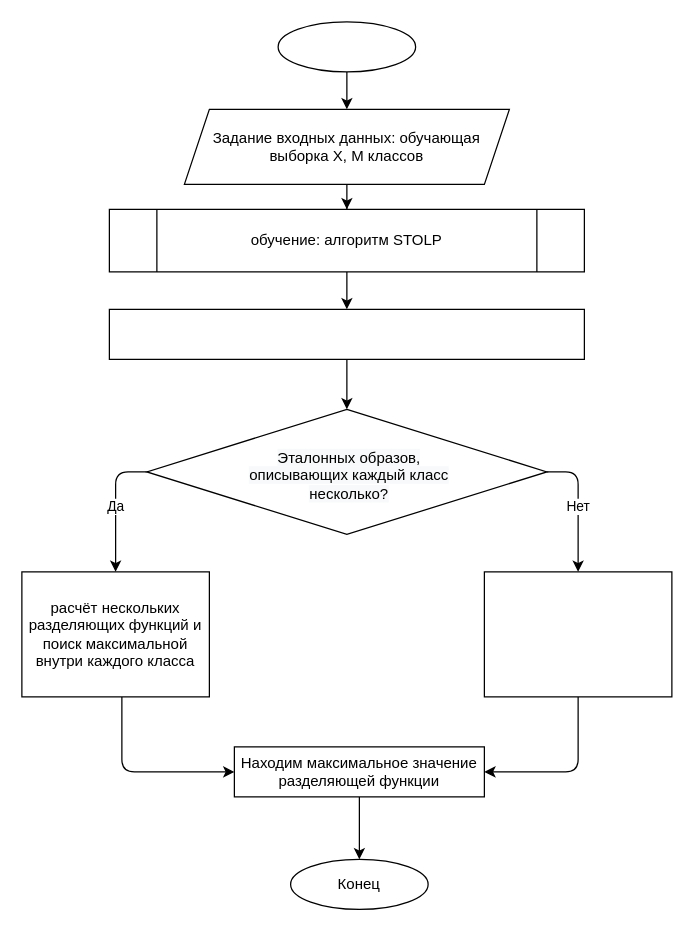
Some shapes in this 694 by 931 pixel diagram are drawn without their labels. Here are the shapes that lost their labels. From the top down, the centre of each, then its label:
the point at 346,46: Начало
the point at 346,333: выбор функции расстояния
the point at 577,634: расчёт единственной разделяющей функции для каждого класса
